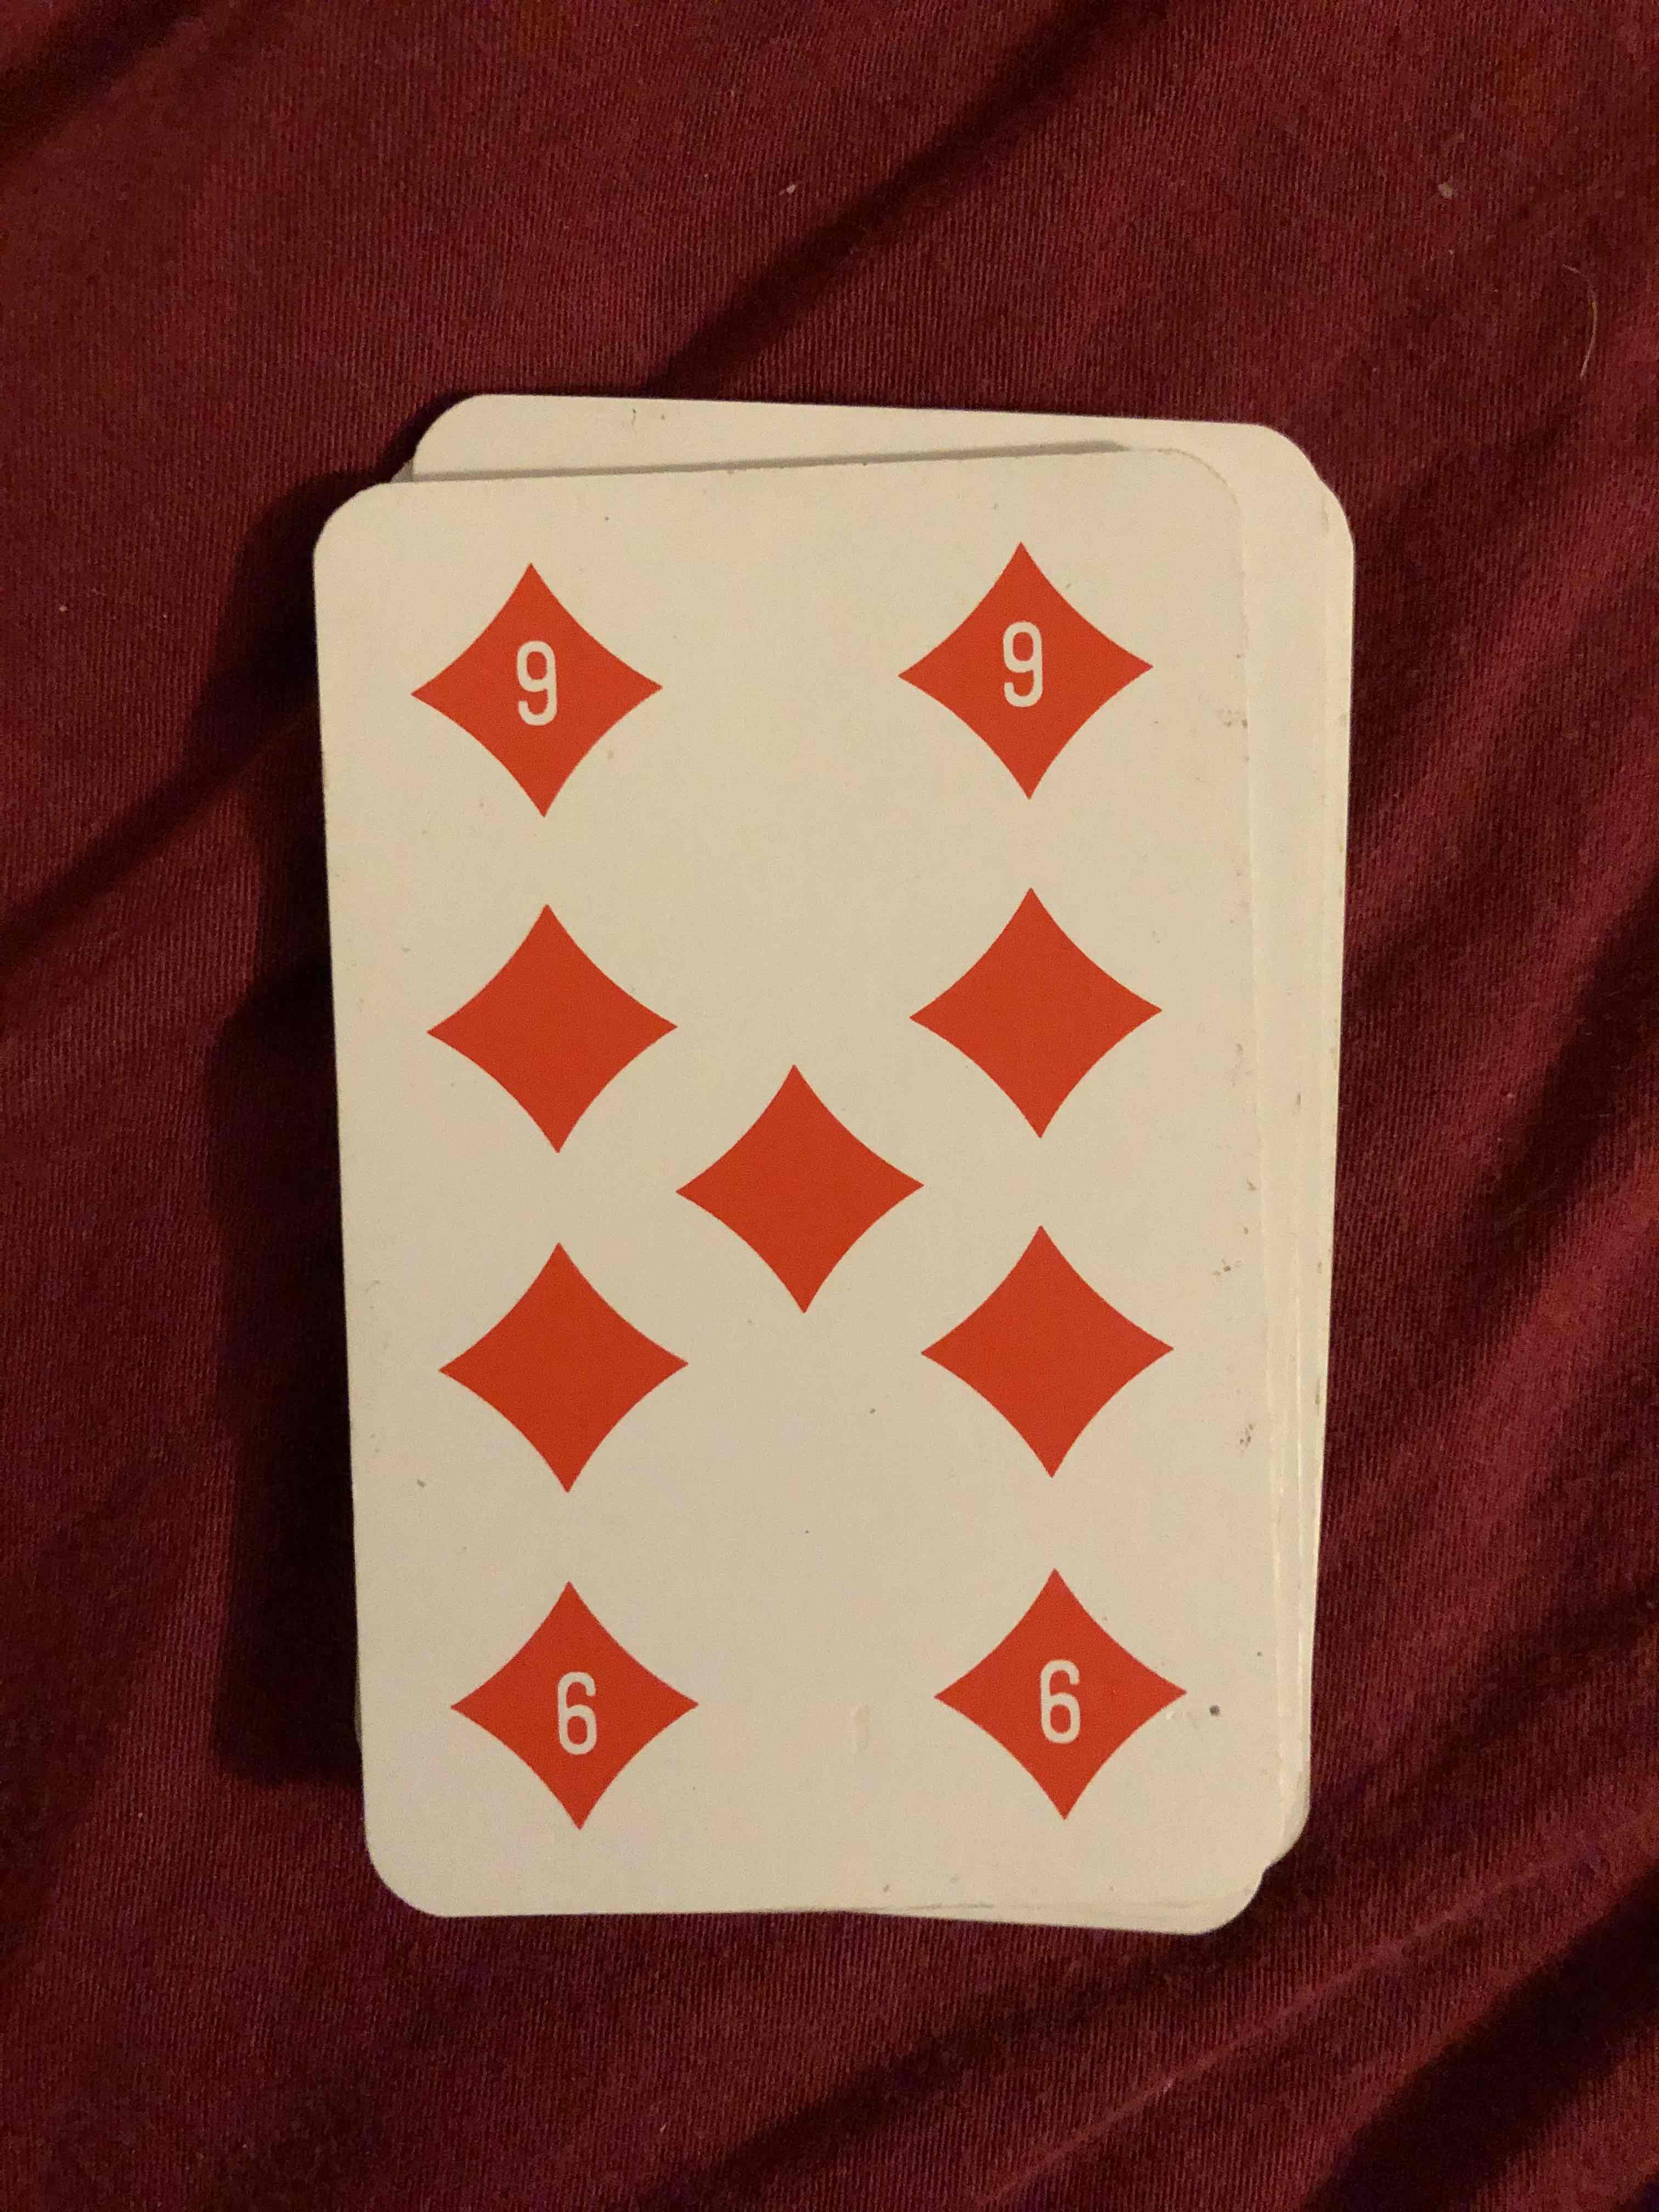diamond9: (324, 470, 1272, 1893)
